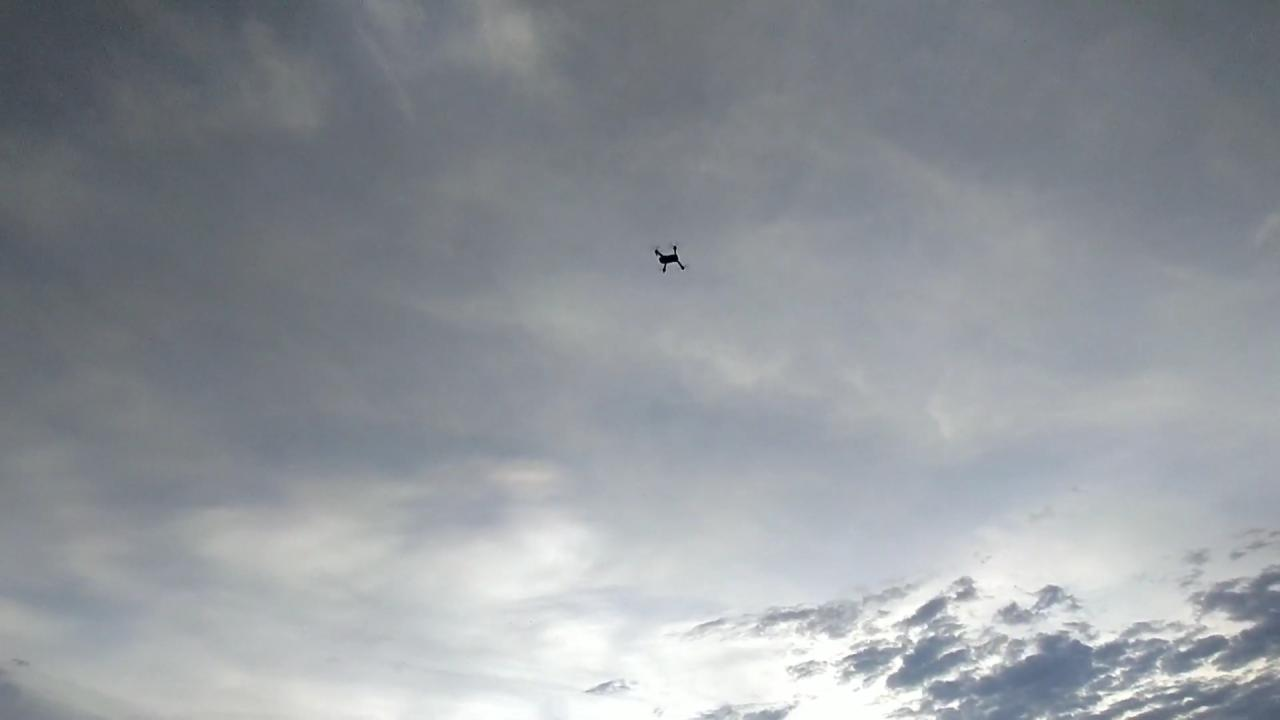Drone: (645, 238, 694, 282)
